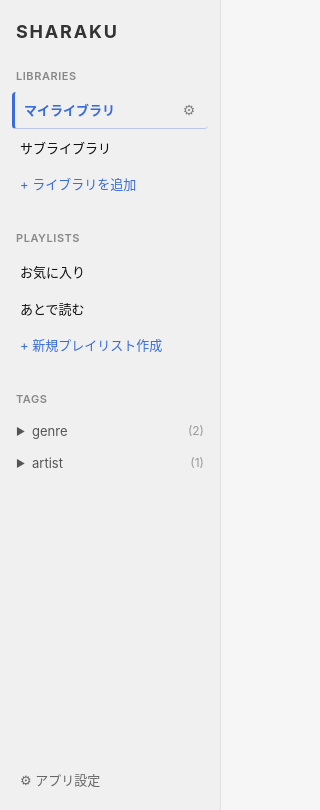
Sidebar コンポーネント › selectedTagIds に含まれるタグに selected クラスが付与される
Expected: the text "Tags" is shown, [16, 392, 48, 406]
Click the button "▶ genre (2)" at (110, 431), box [12, 415, 208, 447]
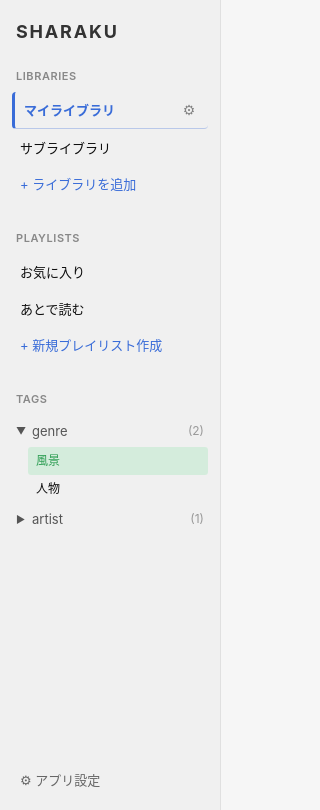
Expected: the button with class "selected" reads "風景", [28, 447, 208, 475]
